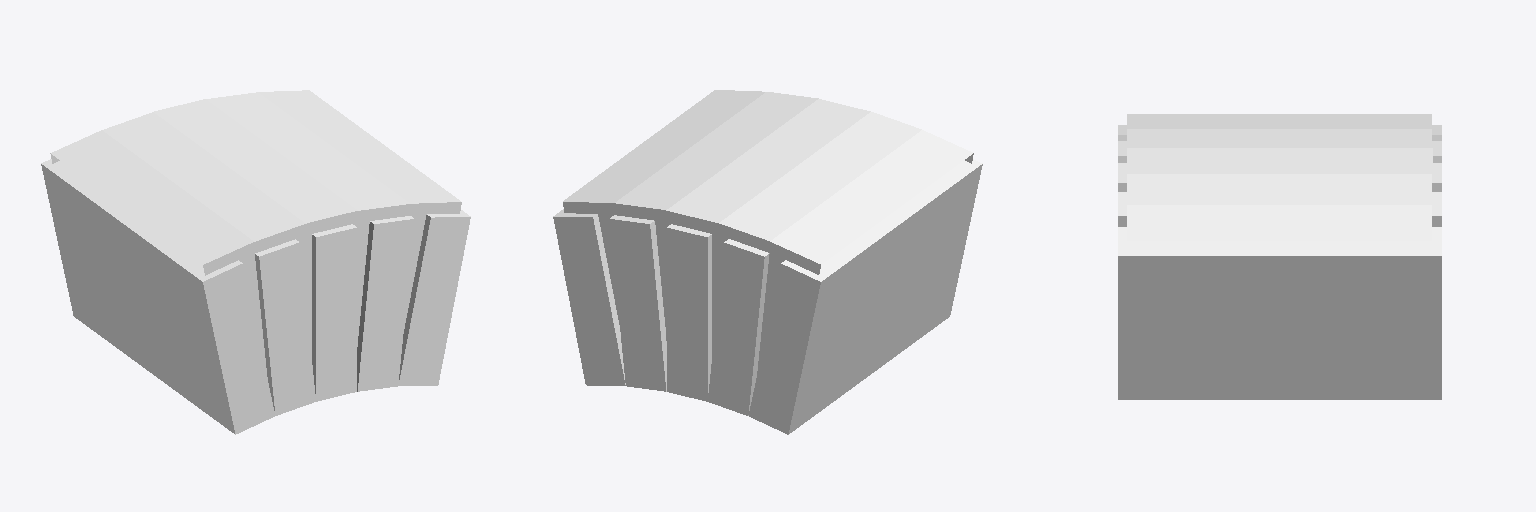
Rendered from lime_mortar_orange_clay_brick_round_arch_3_middle.obj.
The picture shows the model from 3 angles: view 1: azimuth 30°, elevation 25°; view 2: azimuth 150°, elevation 25°; view 3: azimuth 270°, elevation 25°; orthographic projection.
Visible parts, largest first — view 1: cube.076, cube.079, cube.080, cube.075, cube.074, cube.071, cube.072, cube.077, cube.078, cube.073; view 2: cube.076, cube.079, cube.080, cube.075, cube.074, cube.072, cube.071, cube.077, cube.078, cube.073; view 3: cube.071, cube.073, cube.074, cube.075, cube.080, cube.079, cube.072, cube.078.
Part boxes in pixels (x1,y1,x2,y2): cube.076: (41, 159, 274, 434); cube.079: (50, 130, 267, 378); cube.080: (103, 112, 311, 355); cube.075: (154, 99, 357, 267); cube.074: (206, 92, 410, 346); cube.071: (398, 210, 470, 385); cube.072: (357, 216, 414, 391); cube.077: (255, 239, 315, 415); cube.078: (312, 224, 356, 401); cube.073: (259, 90, 461, 328); cube.076: (749, 159, 982, 434); cube.079: (757, 130, 973, 372); cube.080: (719, 112, 921, 286); cube.075: (666, 99, 870, 354); cube.074: (614, 92, 818, 326); cube.072: (609, 215, 666, 391); cube.071: (553, 209, 625, 385); cube.077: (708, 239, 769, 415); cube.078: (667, 224, 711, 401); cube.073: (563, 90, 764, 324); cube.071: (1118, 227, 1441, 399); cube.073: (1127, 205, 1431, 240); cube.074: (1127, 174, 1431, 204); cube.075: (1127, 148, 1432, 173); cube.080: (1127, 129, 1431, 147); cube.079: (1127, 114, 1431, 128); cube.072: (1118, 192, 1441, 226); cube.078: (1118, 163, 1441, 191).
Bounding box in the file's own units: 1.02 × 0.6931 × 1.07.